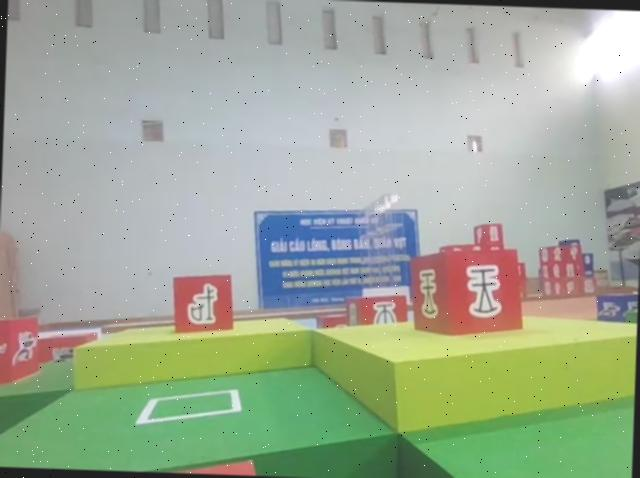R1: (0, 311, 46, 391)
R2 Real: (408, 247, 531, 346), (167, 269, 237, 337)
